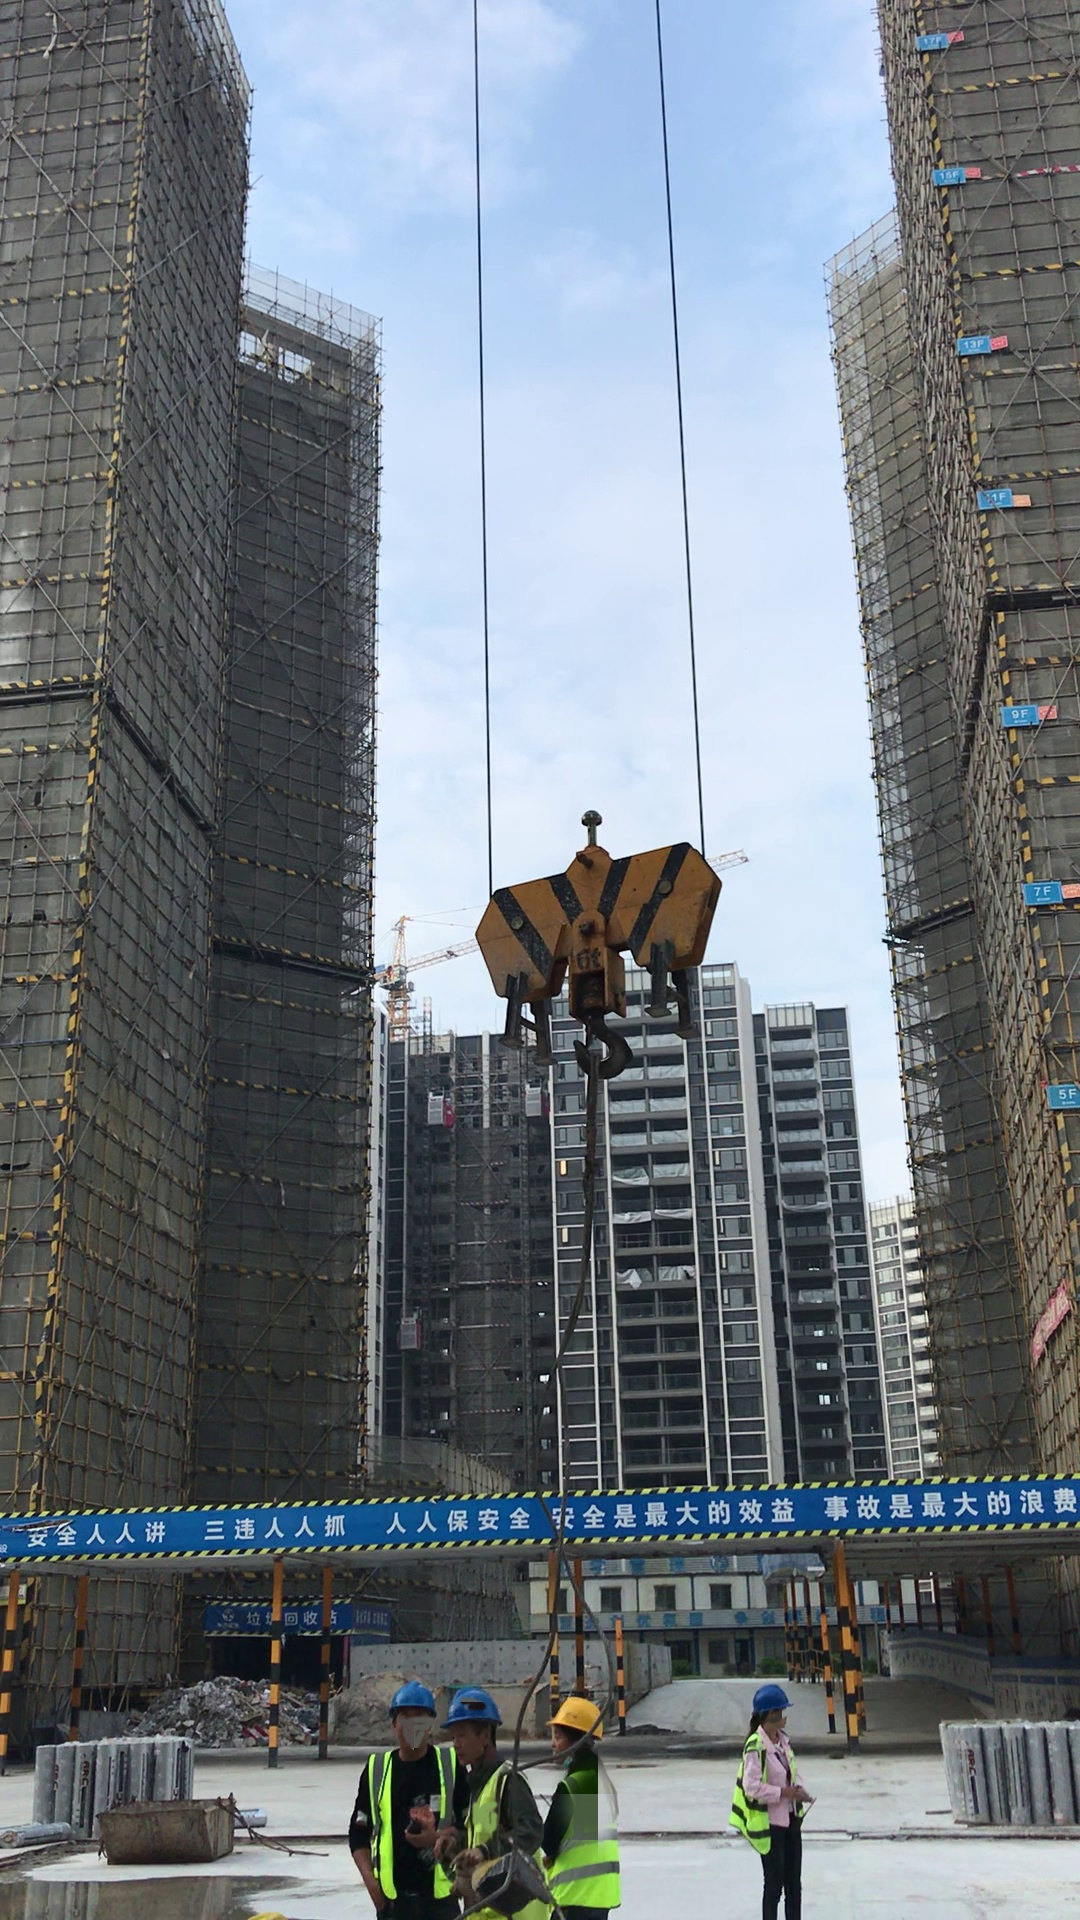helmet: (549, 1698, 606, 1742), (448, 1685, 505, 1726), (385, 1679, 438, 1716), (752, 1684, 797, 1712)
hook: (458, 806, 723, 1100)
hopper: (89, 1797, 247, 1866)
person: (345, 1669, 446, 1920), (448, 1694, 547, 1920), (731, 1680, 821, 1920), (549, 1697, 627, 1920)
slogan: (20, 1480, 1070, 1544), (202, 1600, 395, 1649)
vest: (361, 1742, 455, 1900), (458, 1769, 550, 1920), (555, 1769, 624, 1913), (734, 1734, 814, 1849)
